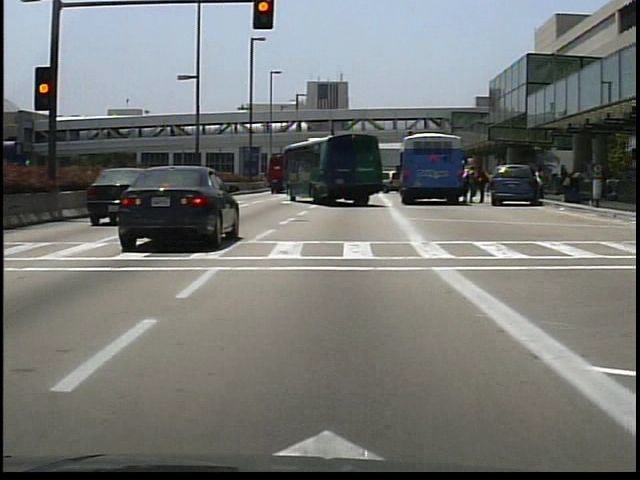person: (474, 164, 489, 207), (464, 162, 479, 204), (532, 168, 545, 206)
